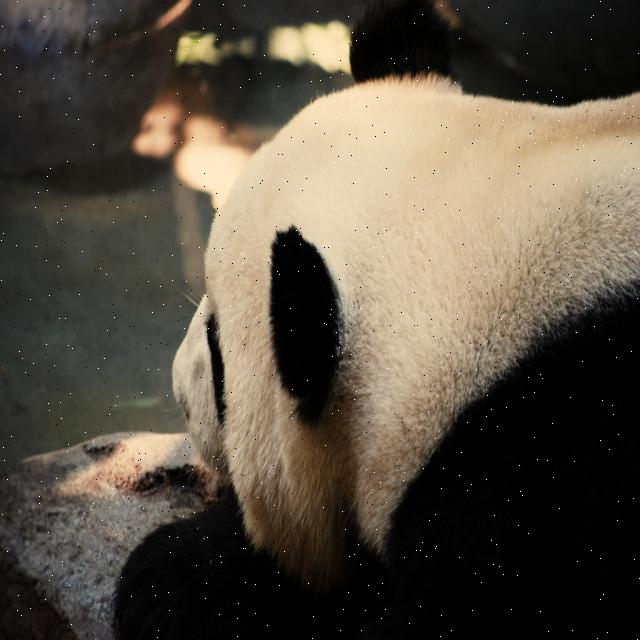panda: (113, 0, 639, 639)
